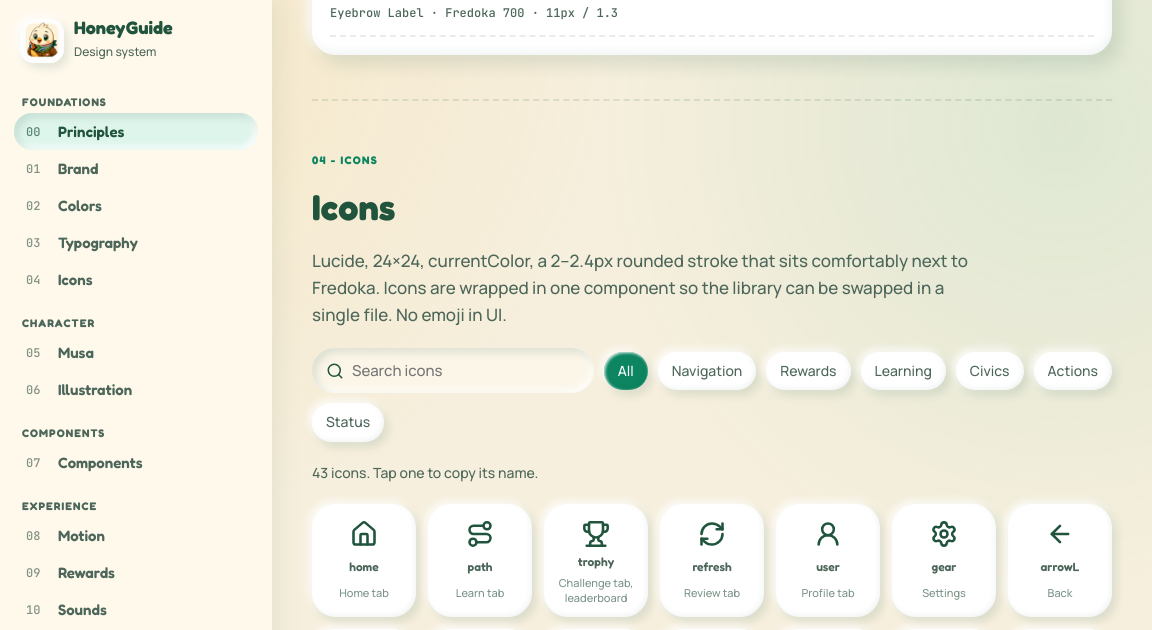
Test: icon gallery › shows an empty state when nothing matches
(page scrolled)
Step 1. Type "zzzz" into the search field labelled "Search icons" → (466, 371), box [352,348,580,393]
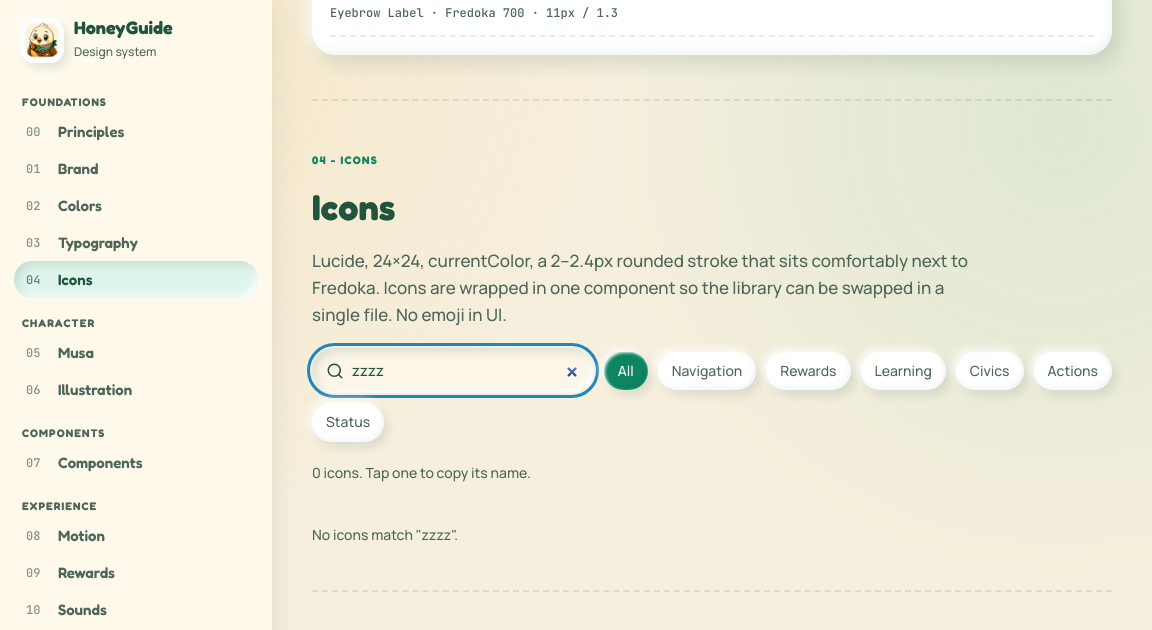
expect the text "No icons match \"zzzz\"." is shown: met, box [312,525,458,544]
